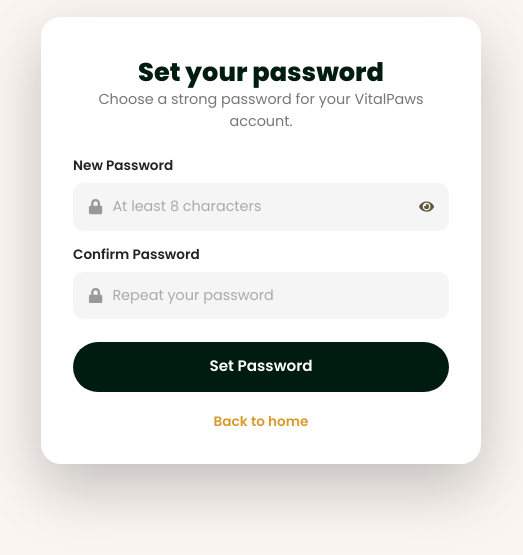
ResetPassword — client-side validation › shows error when password is shorter than 8 characters
This screenshot has width=523, height=555.
Type "short" into the password field with placeholder "At least 8 characters" at [262, 207], box [112,184,411,230]
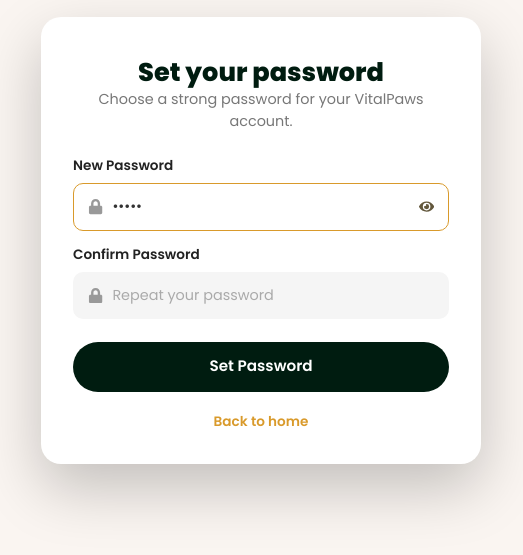
Type "short" into the password field with placeholder "Repeat your password" at [273, 296], box [112,273,434,318]
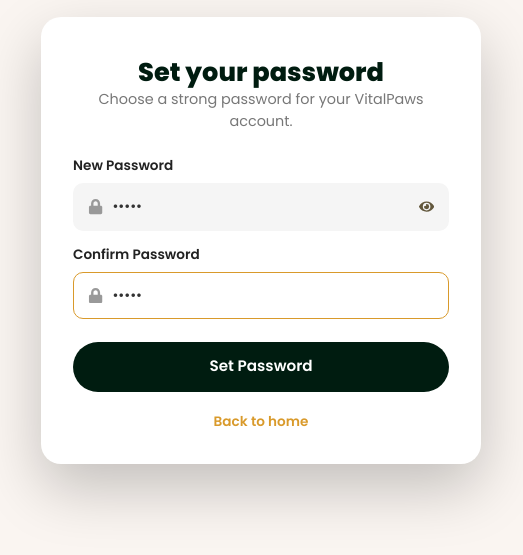
Click the button "Set Password" at [261, 367], box [73,342,449,392]
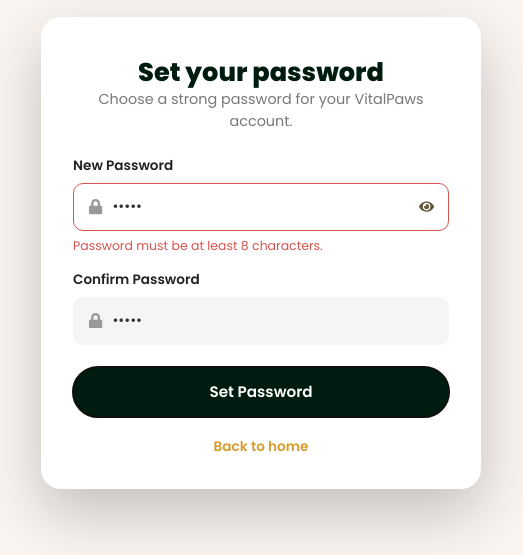
Result: the text "Password must be at least 8 characters." is shown at [73,237,323,254]
